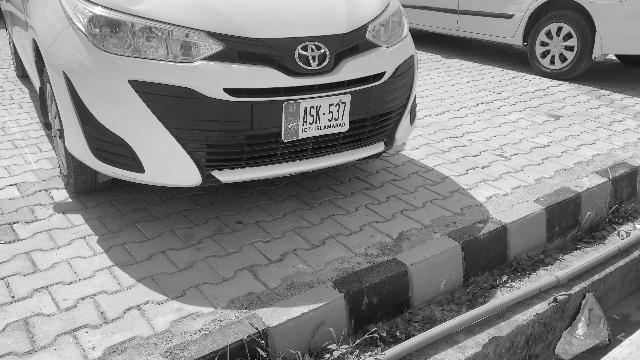Number: (282, 96, 350, 141)
